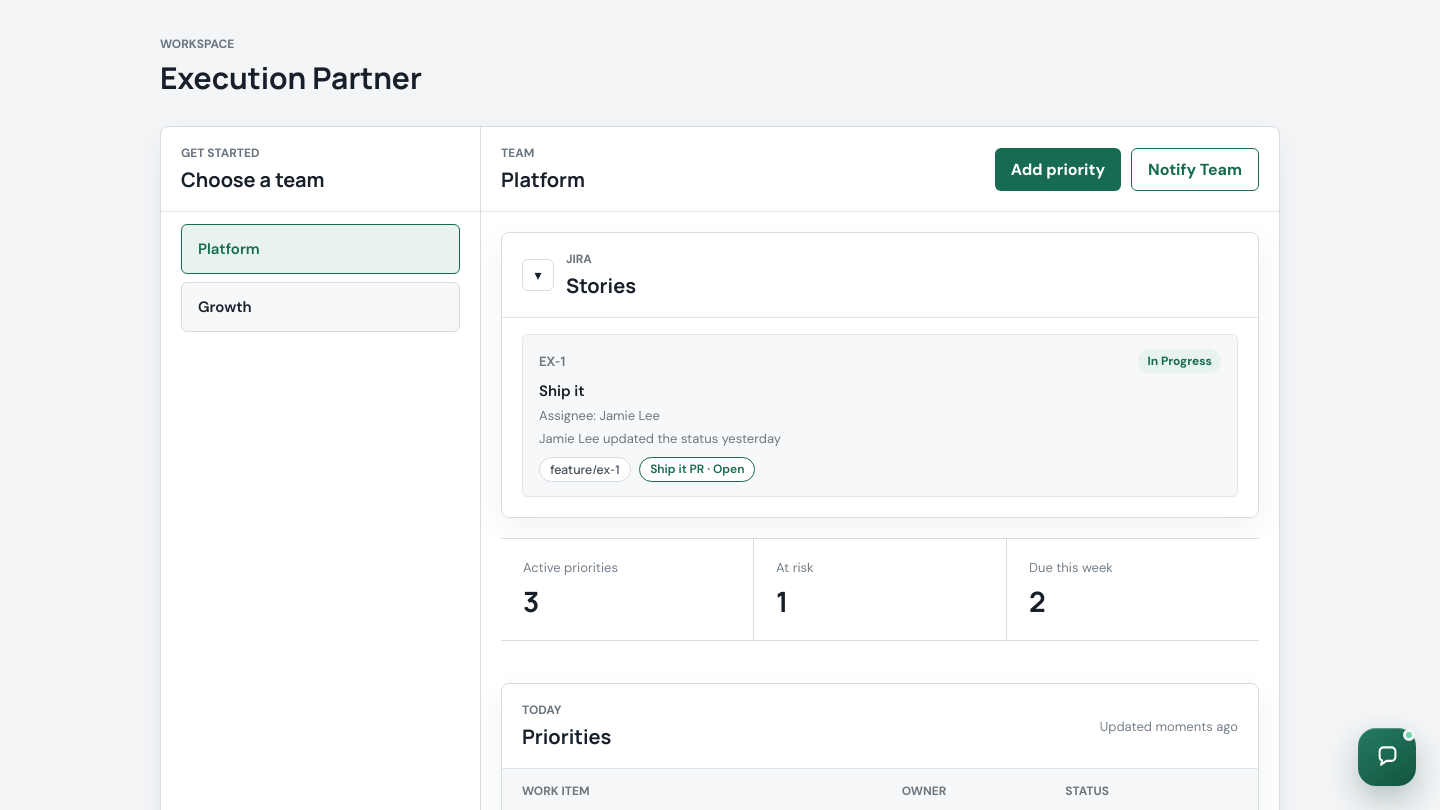
Test: App › renders the workspace and the fetched teams
Check: the heading "Execution Partner" is shown, box [160,57,422,98]
Check: the heading "Choose a team" is shown, box [181,166,325,193]
Click the button named "Open assistant" at (1387, 757), box [1358,728,1416,786]
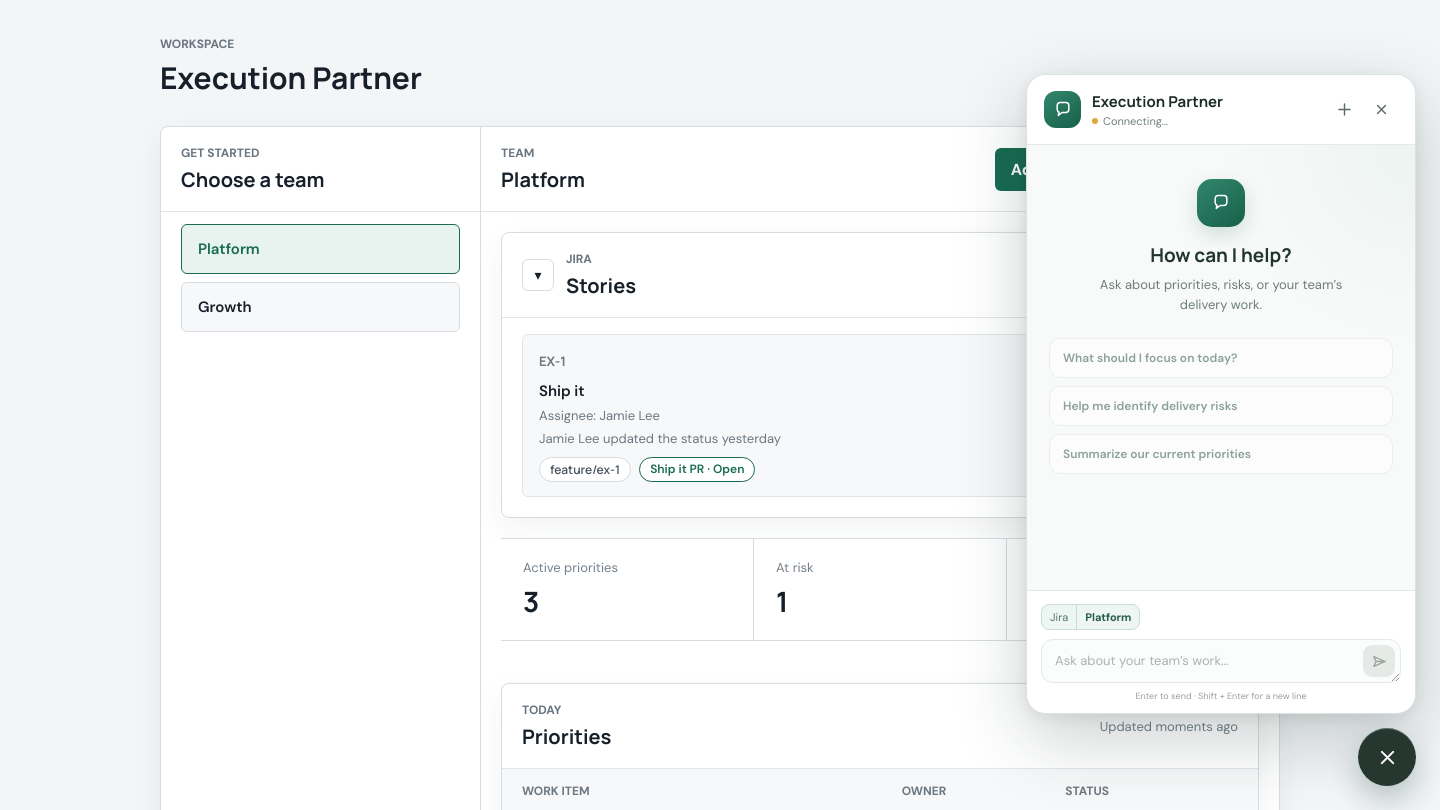
Check: the element named "Jira context: Platform" is shown, box [1041,604,1140,630]
Click the button "Growth" at (225, 307), box [181,282,460,332]
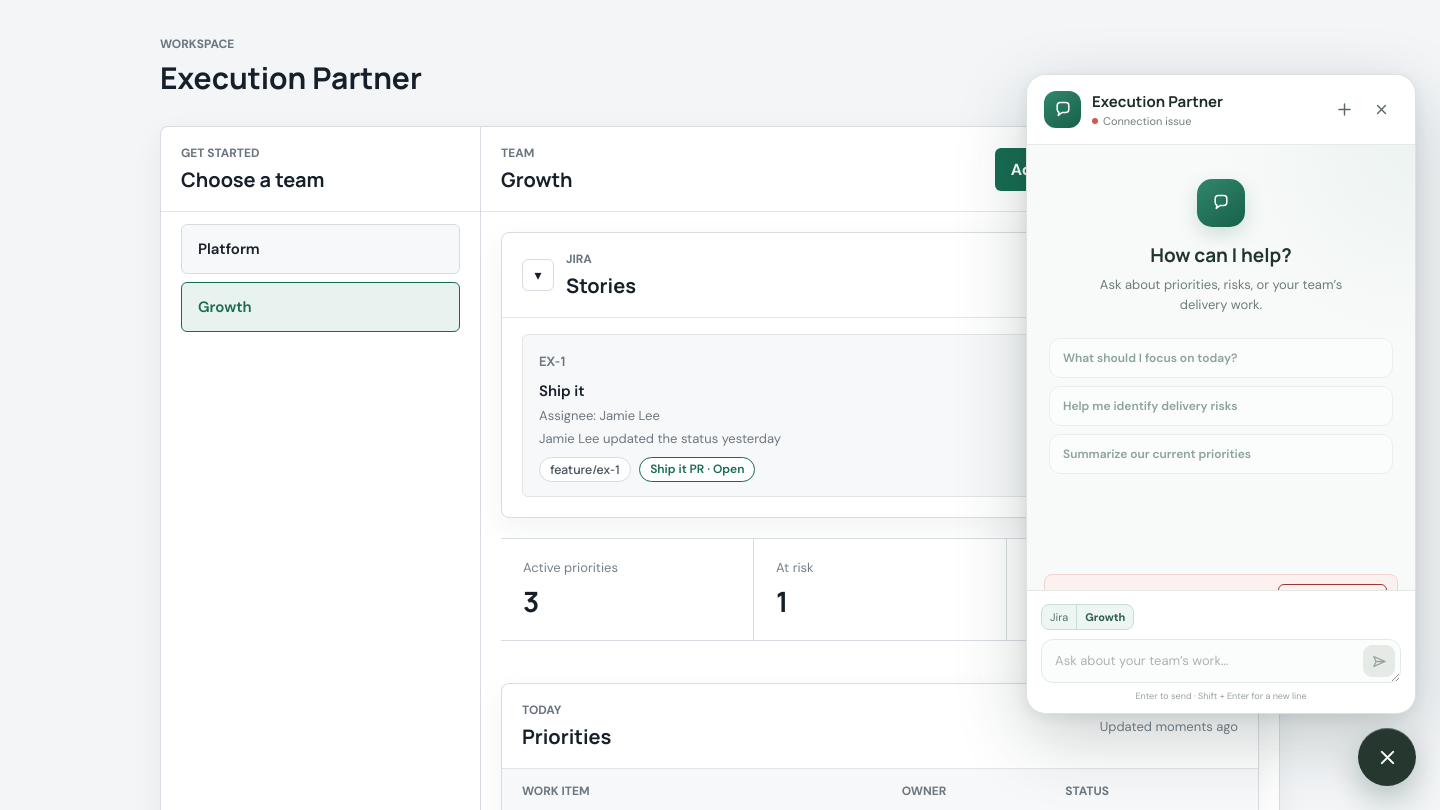
Check: the element named "Jira context: Growth" is shown, box [1041,604,1134,630]
